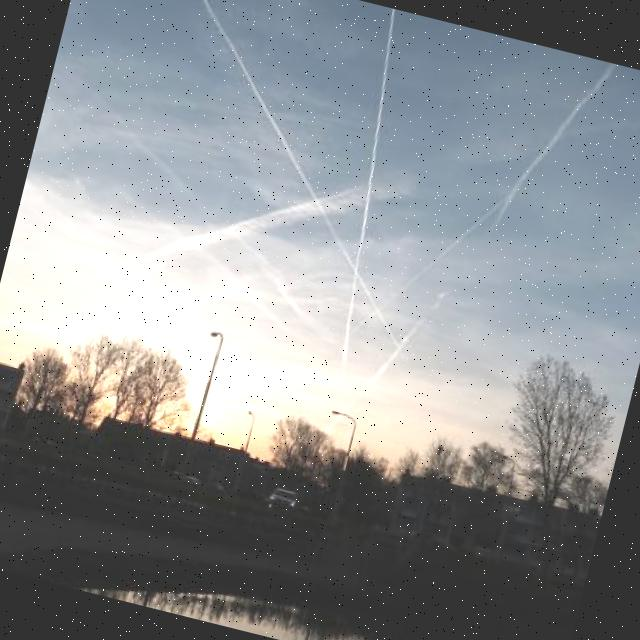Ct: (10, 1, 640, 398)
